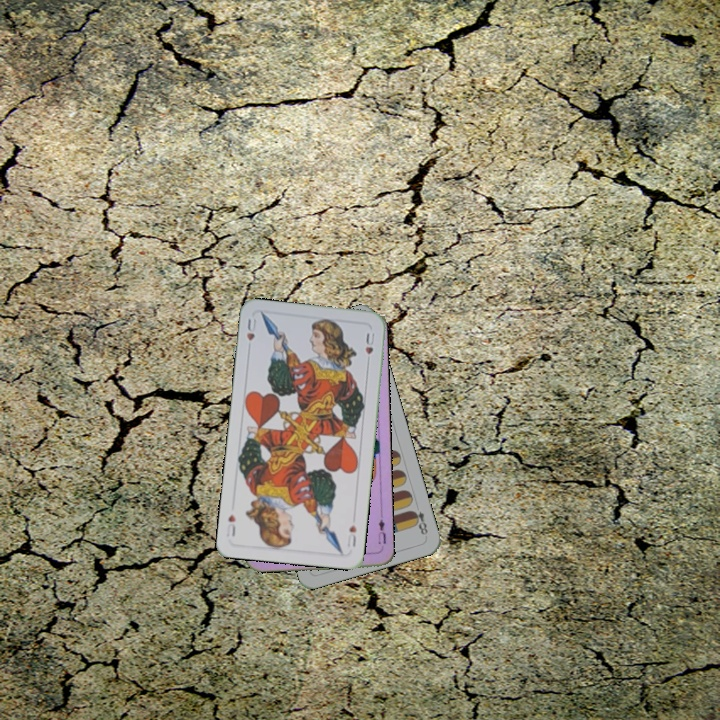E8: (408, 506, 430, 538)
EU: (374, 511, 388, 547)
HU: (243, 314, 260, 343), (343, 521, 359, 549)
